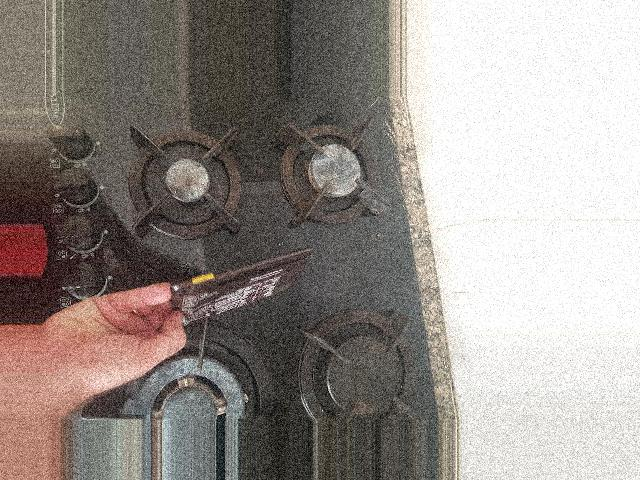chocolate: (156, 244, 313, 329)
